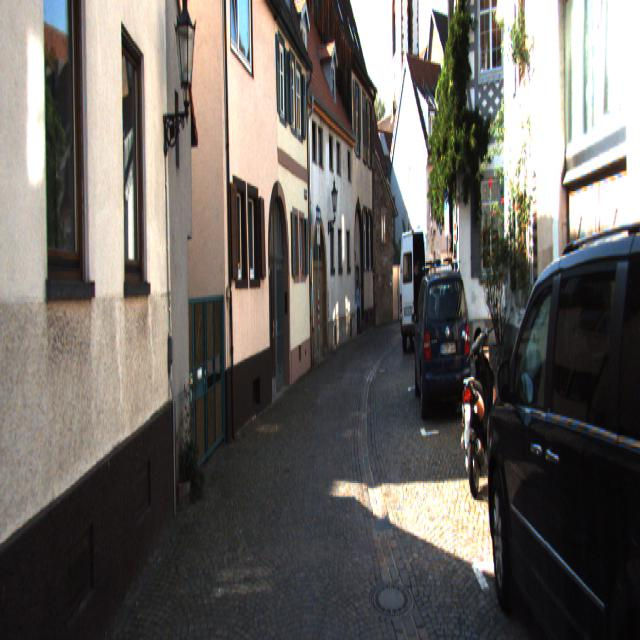Car: (480, 203, 639, 638), (414, 269, 471, 424), (458, 320, 496, 509), (399, 225, 437, 354)
